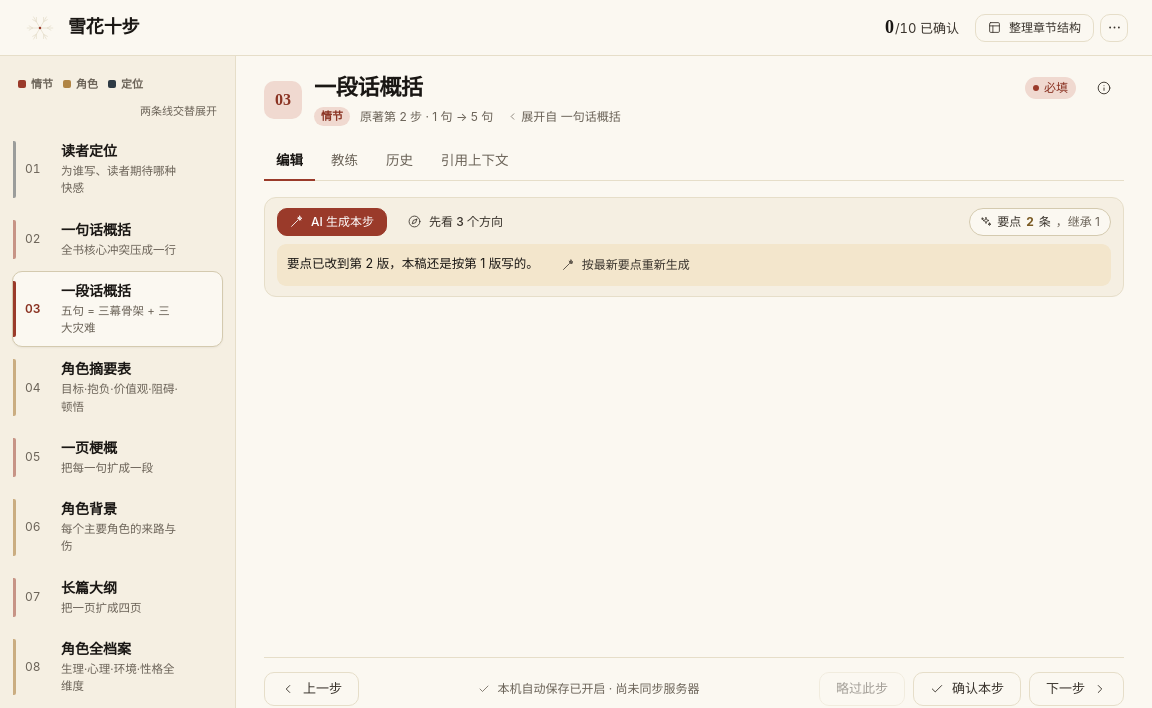
Test: 阶段 U · 教练 · 要点 · 方向 · 生成 › F02-11：教练页先读同步层的教练日志镜像，不再另拉一整份工作台；日志记回镜像
Click the tab "教练" at (344, 161), box [319,140,370,181]
(page scrolled)
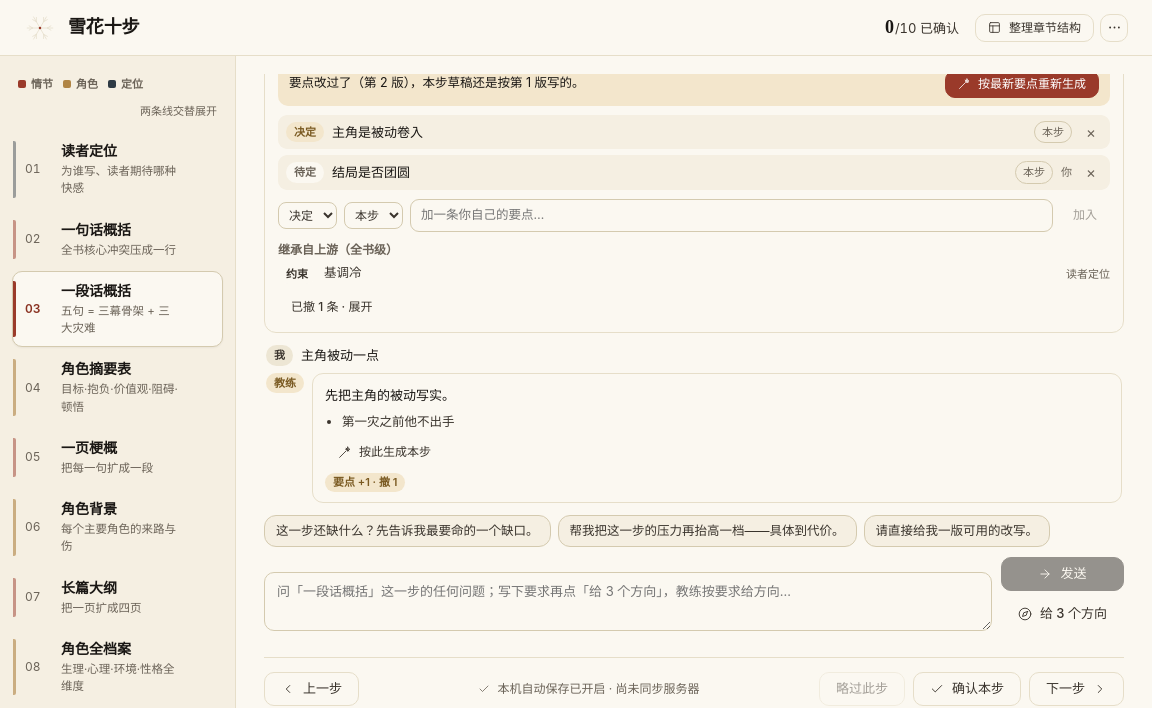
Result: the element with test id "snow-brief-card" is shown at [264,74,1124,333]
Result: the element with test id "snow-coach-turn" is shown at [266,345,1122,503]
Result: the element with test id "snow-coach-turn" shows "先把主角的被动写实。" at [325,386,455,402]
